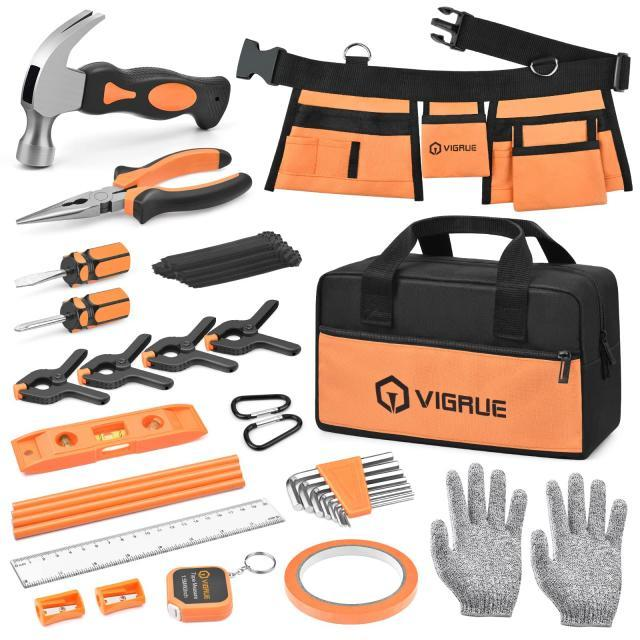hammer: (2, 1, 249, 168)
screwdriver: (5, 225, 150, 297), (8, 290, 165, 340)
